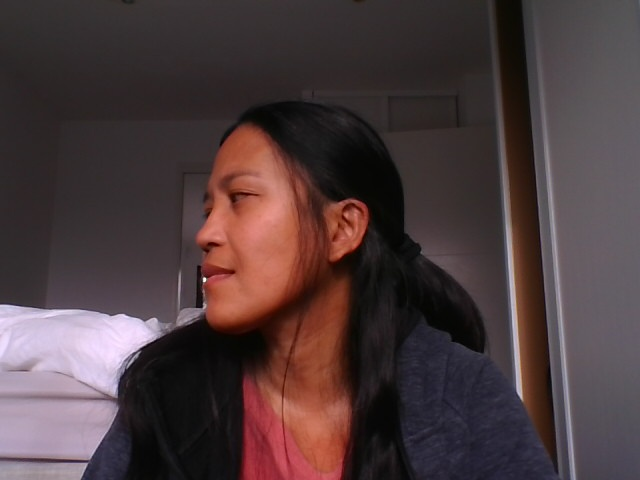face: (195, 100, 370, 331)
